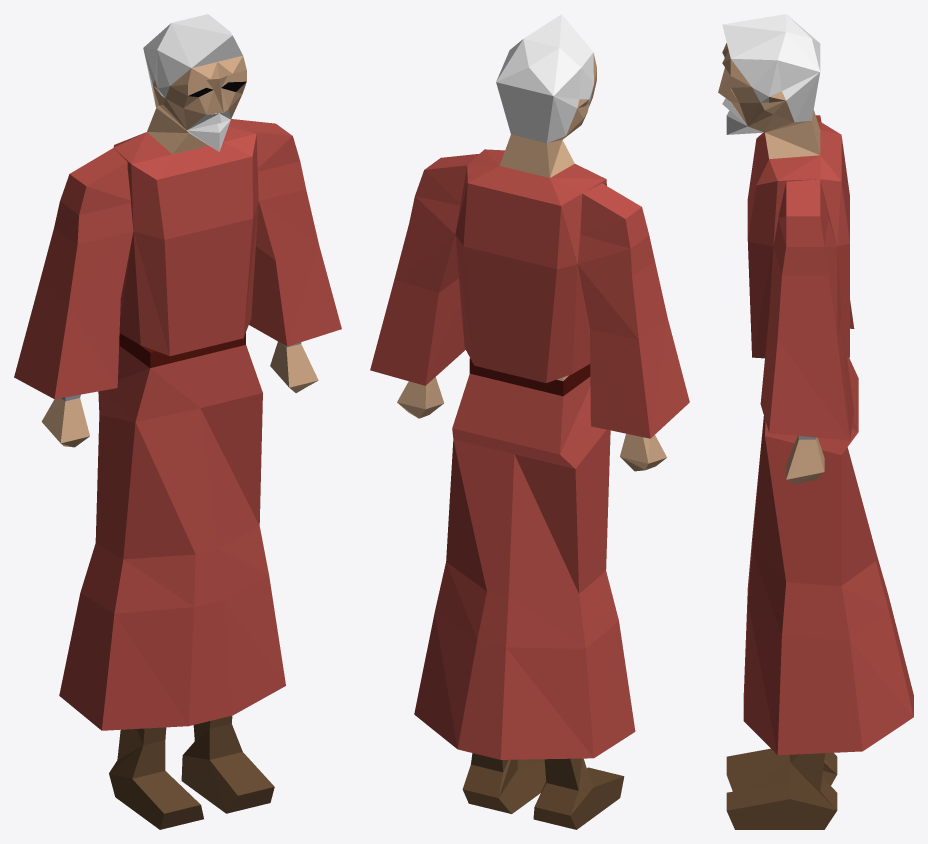
Rendered from chaos_druid.gltf.
3 views of the same model, side by side, from view 1: azimuth 30°, elevation 25°; view 2: azimuth 150°, elevation 25°; view 3: azimuth 270°, elevation 25° (orthographic). The views are drawn at different scales.
Bounding box in the file's own units: 78 × 203 × 46.
1 material, 1 textured.
